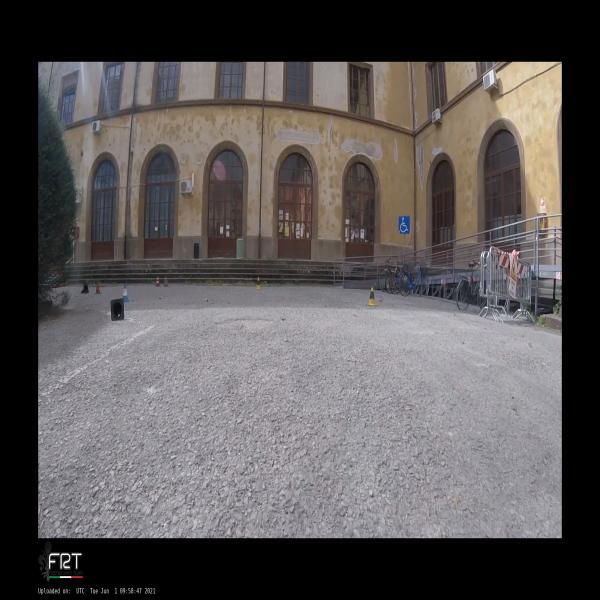blue_cone: (122, 284, 130, 302)
large_orange_cone: (155, 275, 161, 287), (163, 276, 169, 286)
unknown_cone: (110, 298, 124, 321), (94, 280, 102, 294), (81, 284, 89, 294)
yellow_cone: (366, 286, 378, 306), (255, 276, 262, 290)
